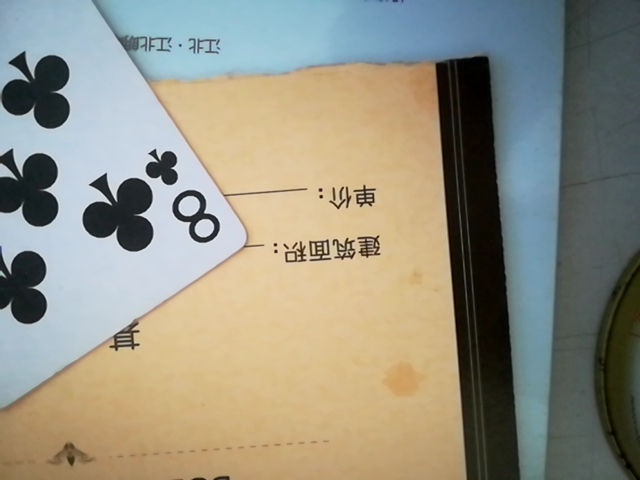mh 8: (0, 0, 252, 445)
